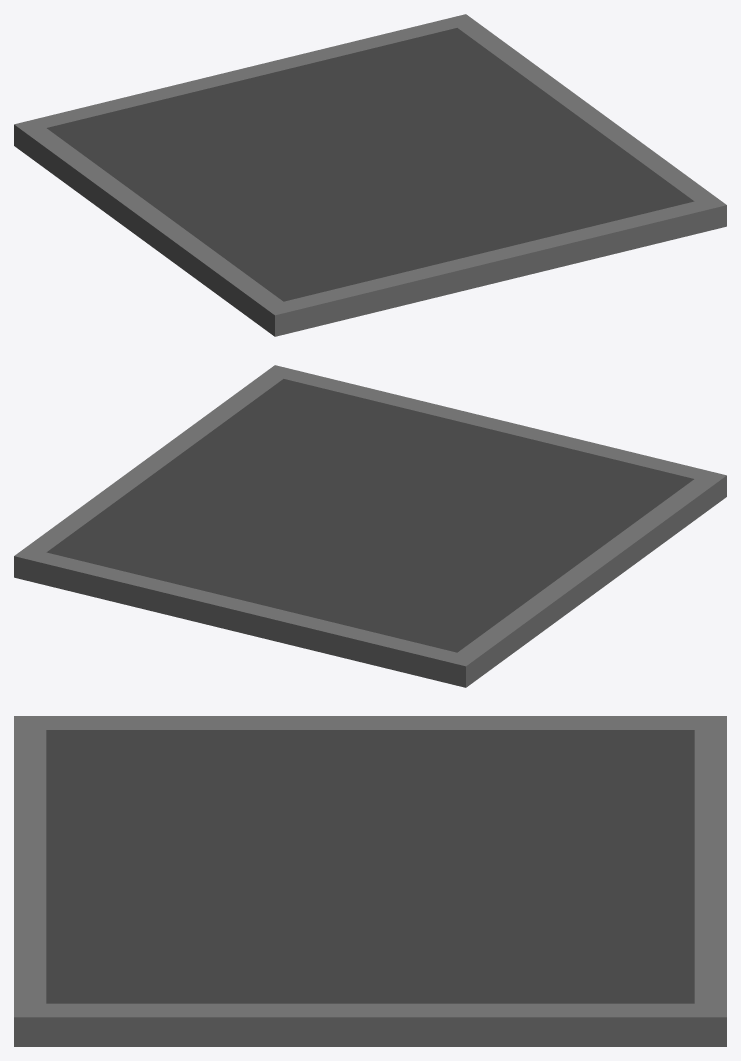
Rendered from asphalt2.obj.
3 views of the same model, one above another, from view 1: azimuth 30°, elevation 25°; view 2: azimuth 150°, elevation 25°; view 3: azimuth 270°, elevation 25° (orthographic). The views are drawn at different scales.
Bounding box in the file's own units: 2.2 × 0.1 × 2.2.
1 material, 1 textured.
